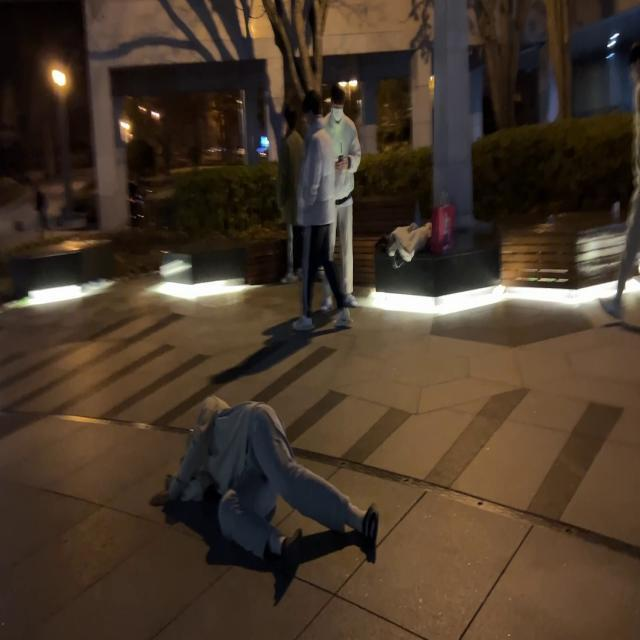Fall: (151, 397, 378, 567)
Stand: (293, 90, 352, 332), (325, 83, 362, 308)
